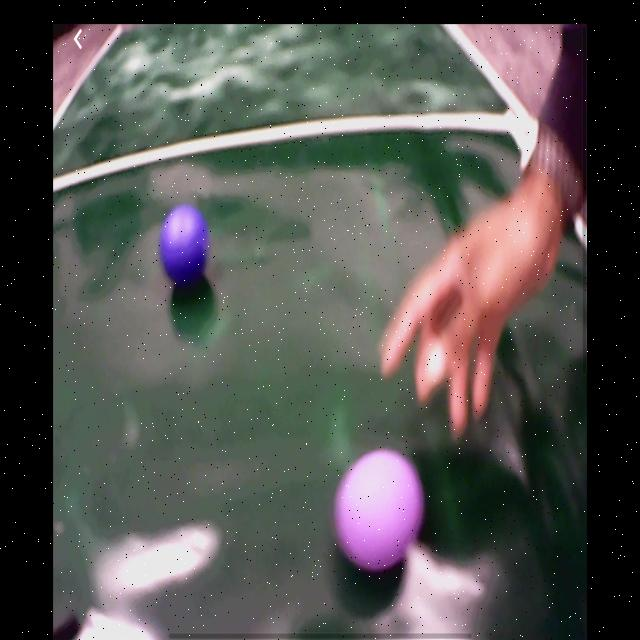ball: (334, 449, 425, 574), (160, 204, 209, 285)
